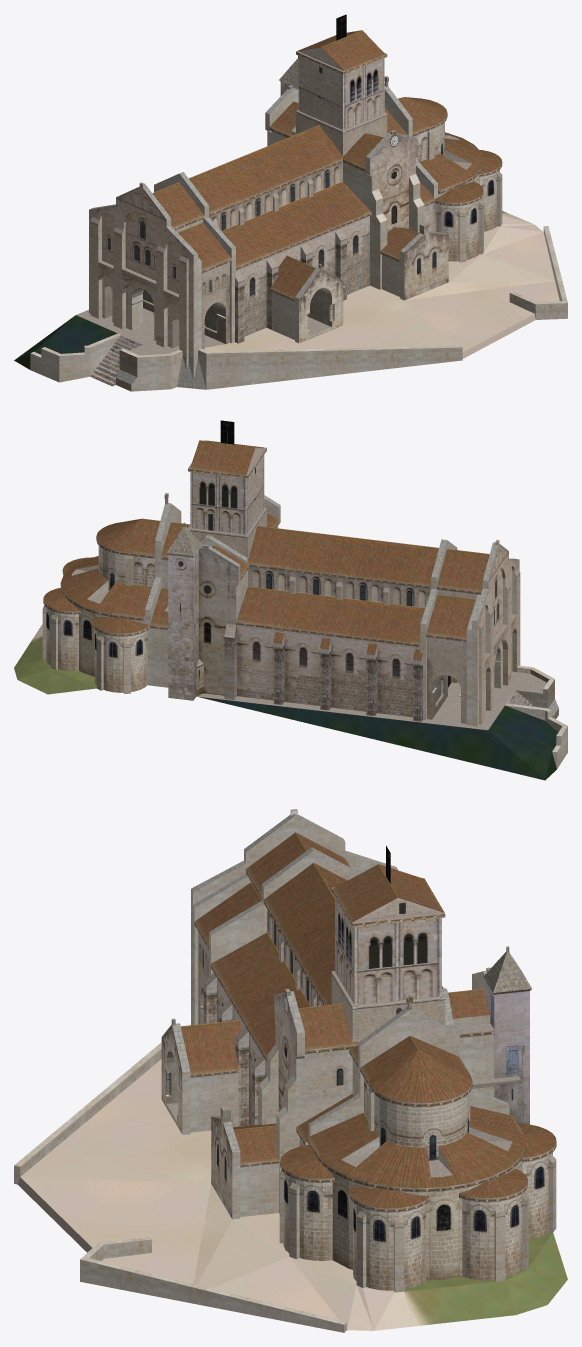
3 renders of one model, top to bottom at view 1: azimuth 30°, elevation 25°; view 2: azimuth 150°, elevation 25°; view 3: azimuth 270°, elevation 25°, orthographic. The views are drawn at different scales.
Visible parts, largest first — view 1: group_0.837_ID4696, group_0.001_ID20, group_0.481_ID928, group_0.564_ID1847, group_0.758_ID3866, group_0.721_ID3482, group_0.690_ID3149, group_0.731_ID3597, group_0.824_ID4568, group_0.544_ID1612, group_0.691_ID3159, group_0.545_ID1627 (+35 smaller); view 2: group_0.635_ID2564, group_0.854_ID4887, group_0.481_ID928, group_0.776_ID4071, group_0.850_ID4842, group_0.508_ID1198, group_0.775_ID4056, group_0.540_ID1562, group_0.685_ID3094, group_0.009_ID117, group_0.001_ID20, group_0.636_ID2579 (+36 smaller); view 3: group_0.837_ID4696, group_0.001_ID20, group_0.033_ID415, group_0.681_ID3044, group_0.835_ID4676, group_0.481_ID928, group_0.009_ID117, group_0.564_ID1847, group_0.690_ID3149, group_0.847_ID4807, group_0.037_ID465, group_0.841_ID4742 (+45 smaller).
Boxes of the visible parts, x1,y1,x2,y2 form: group_0.837_ID4696: (204, 215, 559, 358); group_0.001_ID20: (166, 218, 462, 389); group_0.481_ID928: (189, 125, 343, 213); group_0.564_ID1847: (221, 181, 371, 267); group_0.758_ID3866: (236, 216, 369, 336); group_0.721_ID3482: (90, 221, 186, 370); group_0.690_ID3149: (343, 162, 424, 300); group_0.731_ID3597: (370, 131, 417, 232); group_0.824_ID4568: (89, 183, 193, 358); group_0.544_ID1612: (298, 56, 342, 129); group_0.691_ID3159: (404, 224, 448, 300); group_0.545_ID1627: (343, 58, 384, 129); group_0.635_ID2564: (237, 625, 420, 717); group_0.854_ID4887: (197, 696, 558, 780); group_0.481_ID928: (248, 526, 438, 585); group_0.776_ID4071: (236, 586, 425, 643); group_0.850_ID4842: (199, 545, 238, 695); group_0.508_ID1198: (168, 554, 193, 700); group_0.775_ID4056: (248, 567, 431, 607); group_0.540_ID1562: (190, 472, 246, 534); group_0.685_ID3094: (197, 644, 546, 730); group_0.009_ID117: (129, 503, 181, 687); group_0.001_ID20: (420, 580, 488, 726); group_0.636_ID2579: (427, 637, 466, 723); group_0.837_ID4696: (17, 1059, 403, 1330); group_0.001_ID20: (14, 815, 378, 1184); group_0.033_ID415: (319, 1122, 525, 1187); group_0.681_ID3044: (354, 918, 441, 1005); group_0.835_ID4676: (80, 1236, 346, 1332); group_0.481_ID928: (264, 863, 347, 1005); group_0.009_ID117: (305, 1009, 509, 1145); group_0.564_ID1847: (211, 932, 310, 1058); group_0.690_ID3149: (232, 1044, 299, 1219); group_0.847_ID4807: (494, 991, 529, 1124); group_0.037_ID465: (368, 1049, 472, 1102); group_0.841_ID4742: (404, 1280, 515, 1326).
Bounding box in the file's own units: 59.28 × 30.01 × 39.52.
92 materials, 87 textured.
